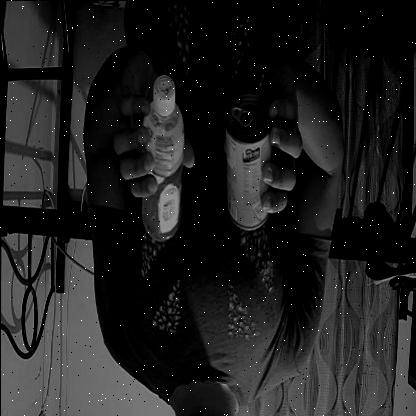Plastic Bottle: (114, 67, 198, 253)
